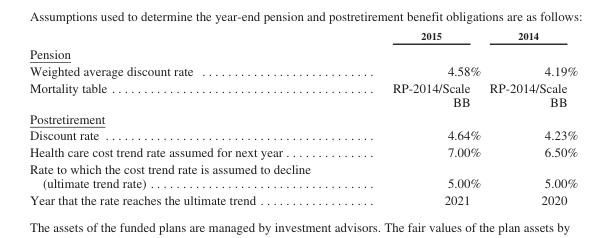table: (28, 29, 577, 206)
table column: (28, 29, 350, 206), (350, 29, 484, 206), (484, 29, 577, 206)
table column header: (28, 29, 577, 43)
table projected row header: (28, 43, 577, 62), (28, 109, 577, 126)
table row: (28, 78, 577, 109), (28, 160, 577, 191), (28, 43, 577, 62), (28, 109, 577, 126), (28, 126, 577, 143), (28, 143, 577, 160), (28, 62, 577, 78), (28, 191, 577, 206), (28, 29, 577, 43)
